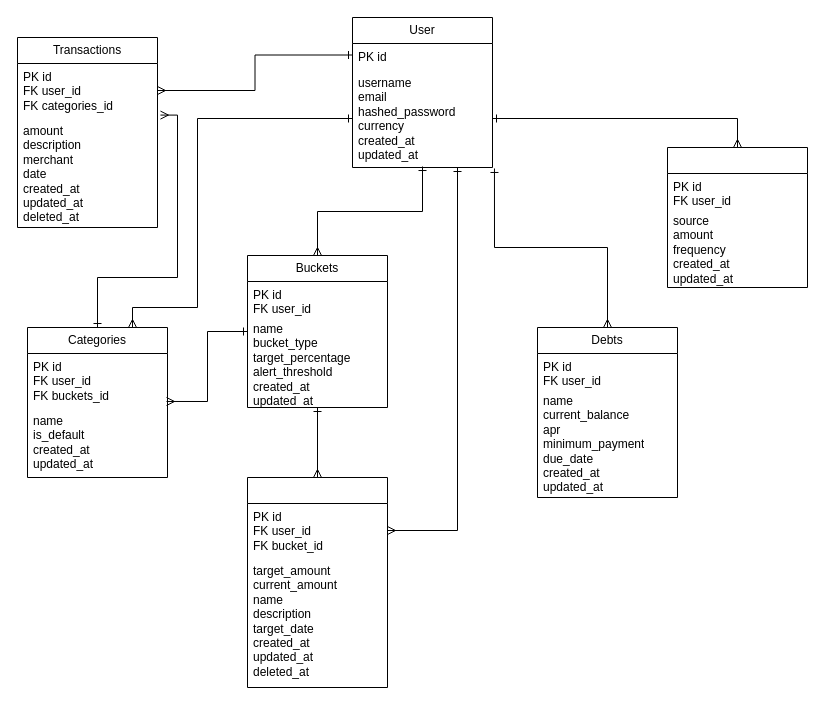
Some shapes in this 825 by 708 pixel diagram are drawn without their labels. Each missing label, with the box of its shape:
Income: (666, 146, 808, 288)
Savings Goals: (246, 476, 388, 688)
